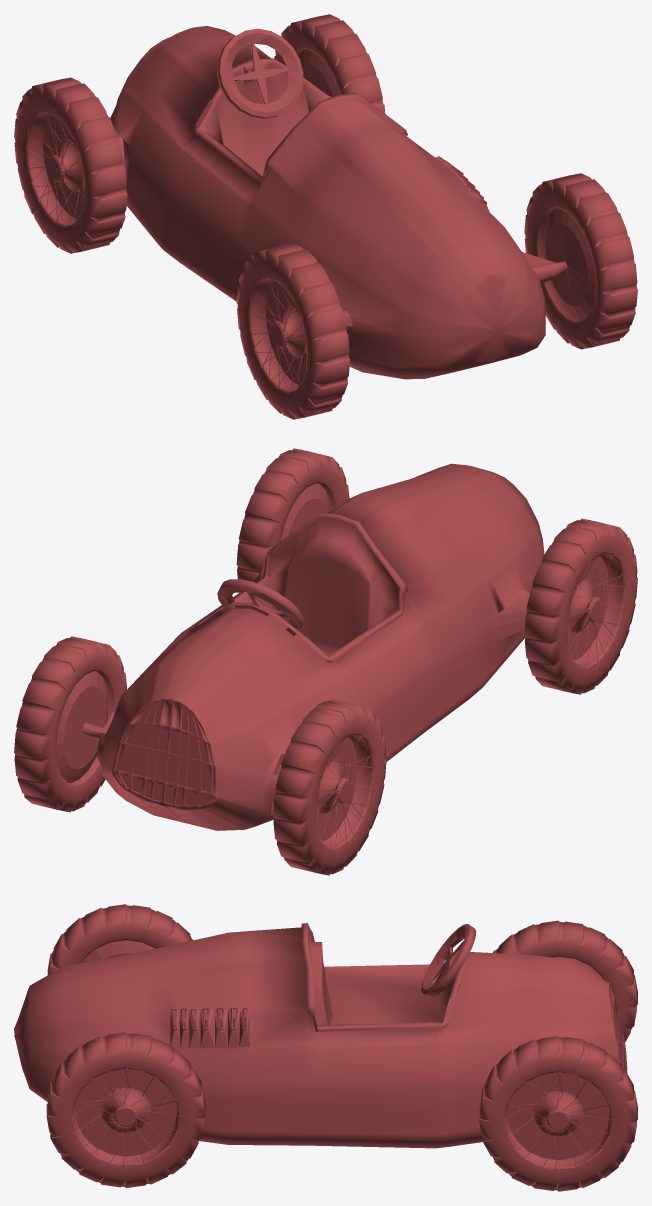
Rendered from car.glb.
The picture shows the model from 3 angles, top to bottom: view 1: azimuth 30°, elevation 25°; view 2: azimuth 150°, elevation 25°; view 3: azimuth 270°, elevation 25°; orthographic projection. The views are drawn at different scales.
Parts seen in each view (by area): view 1: polySurface; view 2: polySurface; view 3: polySurface.
Part boxes in pixels (x1=…): polySurface: x1=14, y1=14, x2=637, y2=419; polySurface: x1=14, y1=448, x2=637, y2=875; polySurface: x1=14, y1=904, x2=637, y2=1191.
Size of the model in its own units: 6.71 by 4.37 by 12.38.
